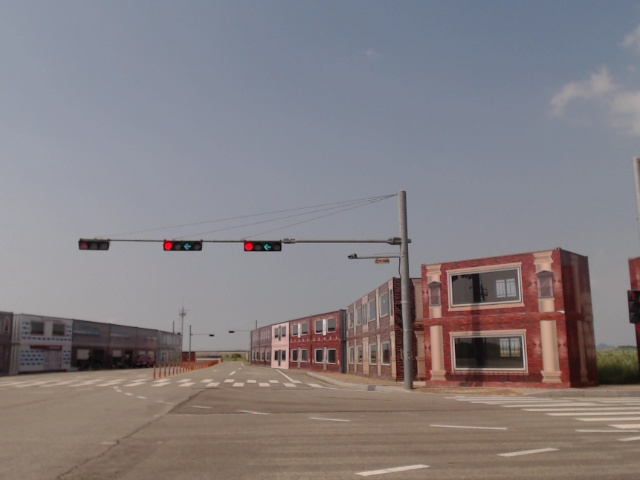left_green_4: (164, 241, 202, 251), (244, 242, 281, 252)
